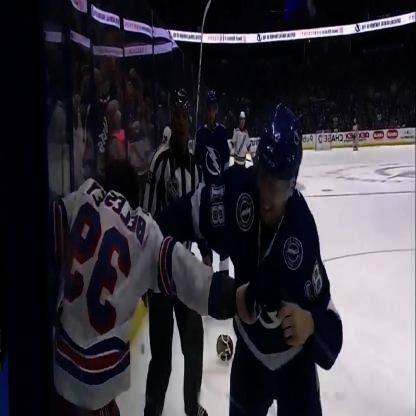voilence: (148, 103, 344, 416), (50, 154, 264, 416)
